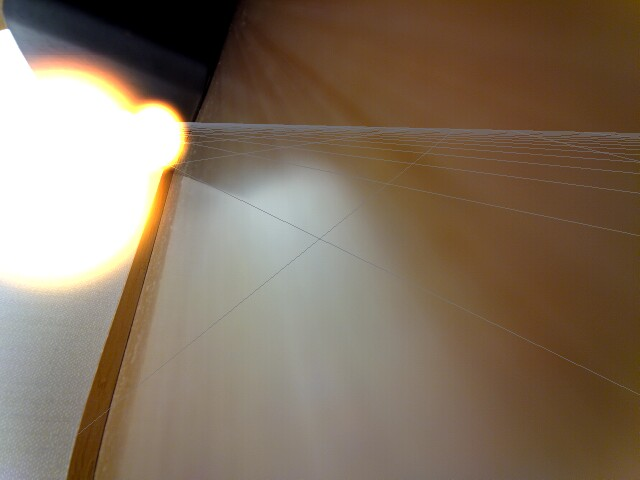firebig: (0, 50, 148, 292)
